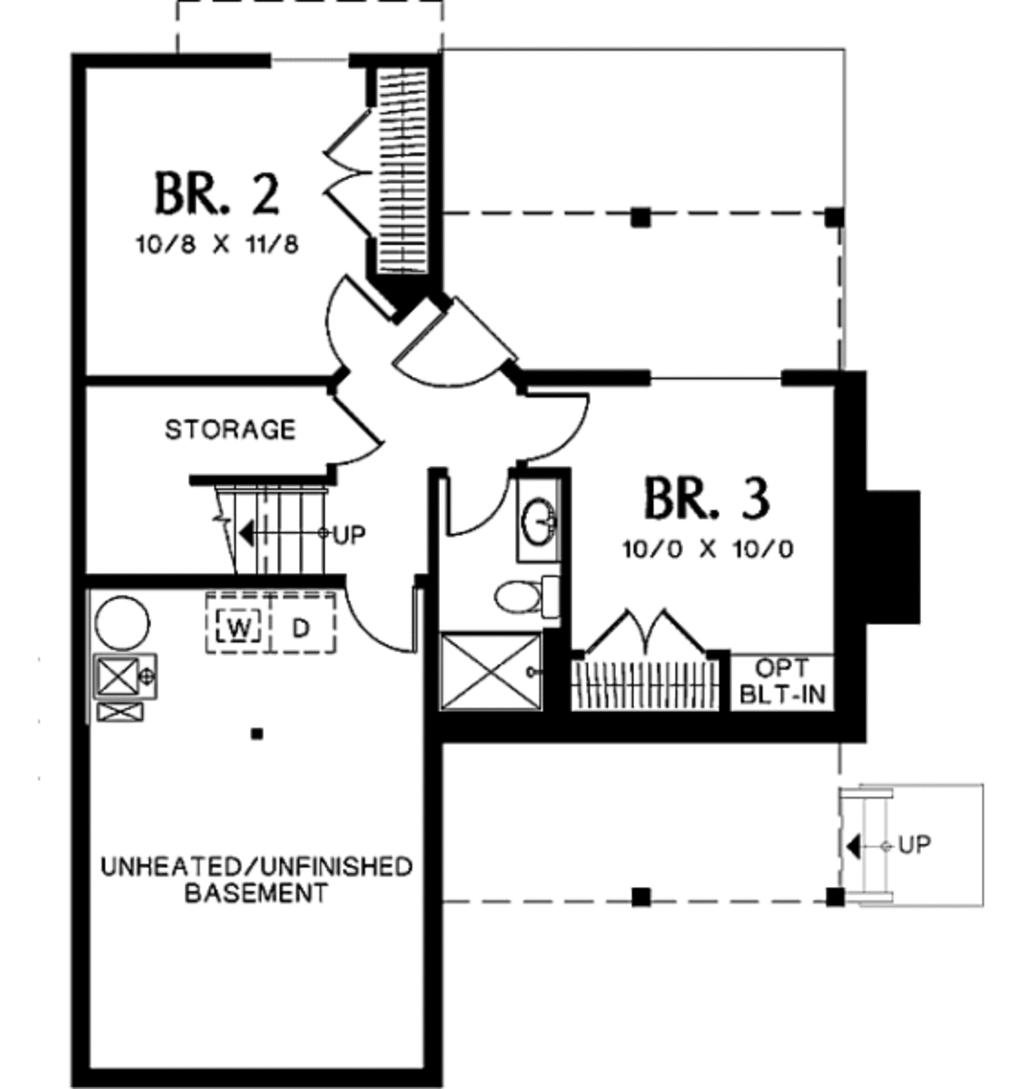door: (405, 287, 519, 390), (310, 90, 381, 231), (310, 268, 398, 373), (512, 380, 607, 465), (586, 609, 719, 668), (315, 375, 390, 478), (429, 460, 505, 545), (344, 578, 430, 653)
large_sink: (490, 565, 576, 628)
small_sink: (507, 478, 561, 560)
stairs: (802, 772, 990, 902), (180, 477, 376, 580)
